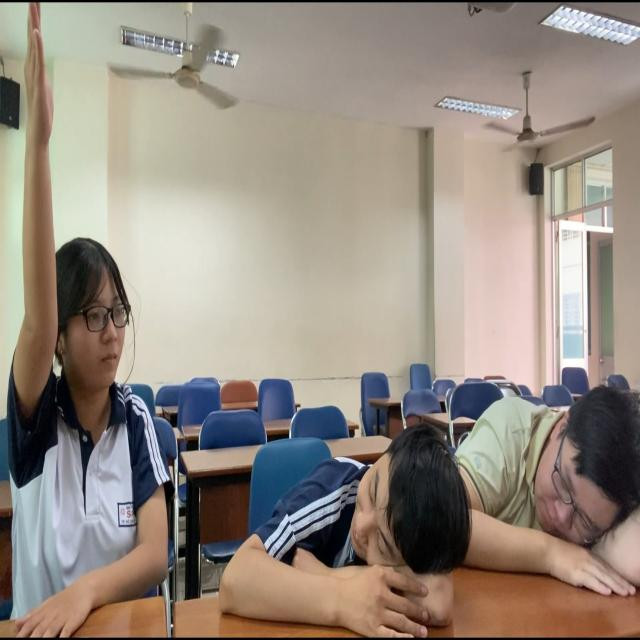raise_hand: (4, 1, 174, 640)
sleep: (234, 417, 476, 639), (450, 351, 640, 599)
